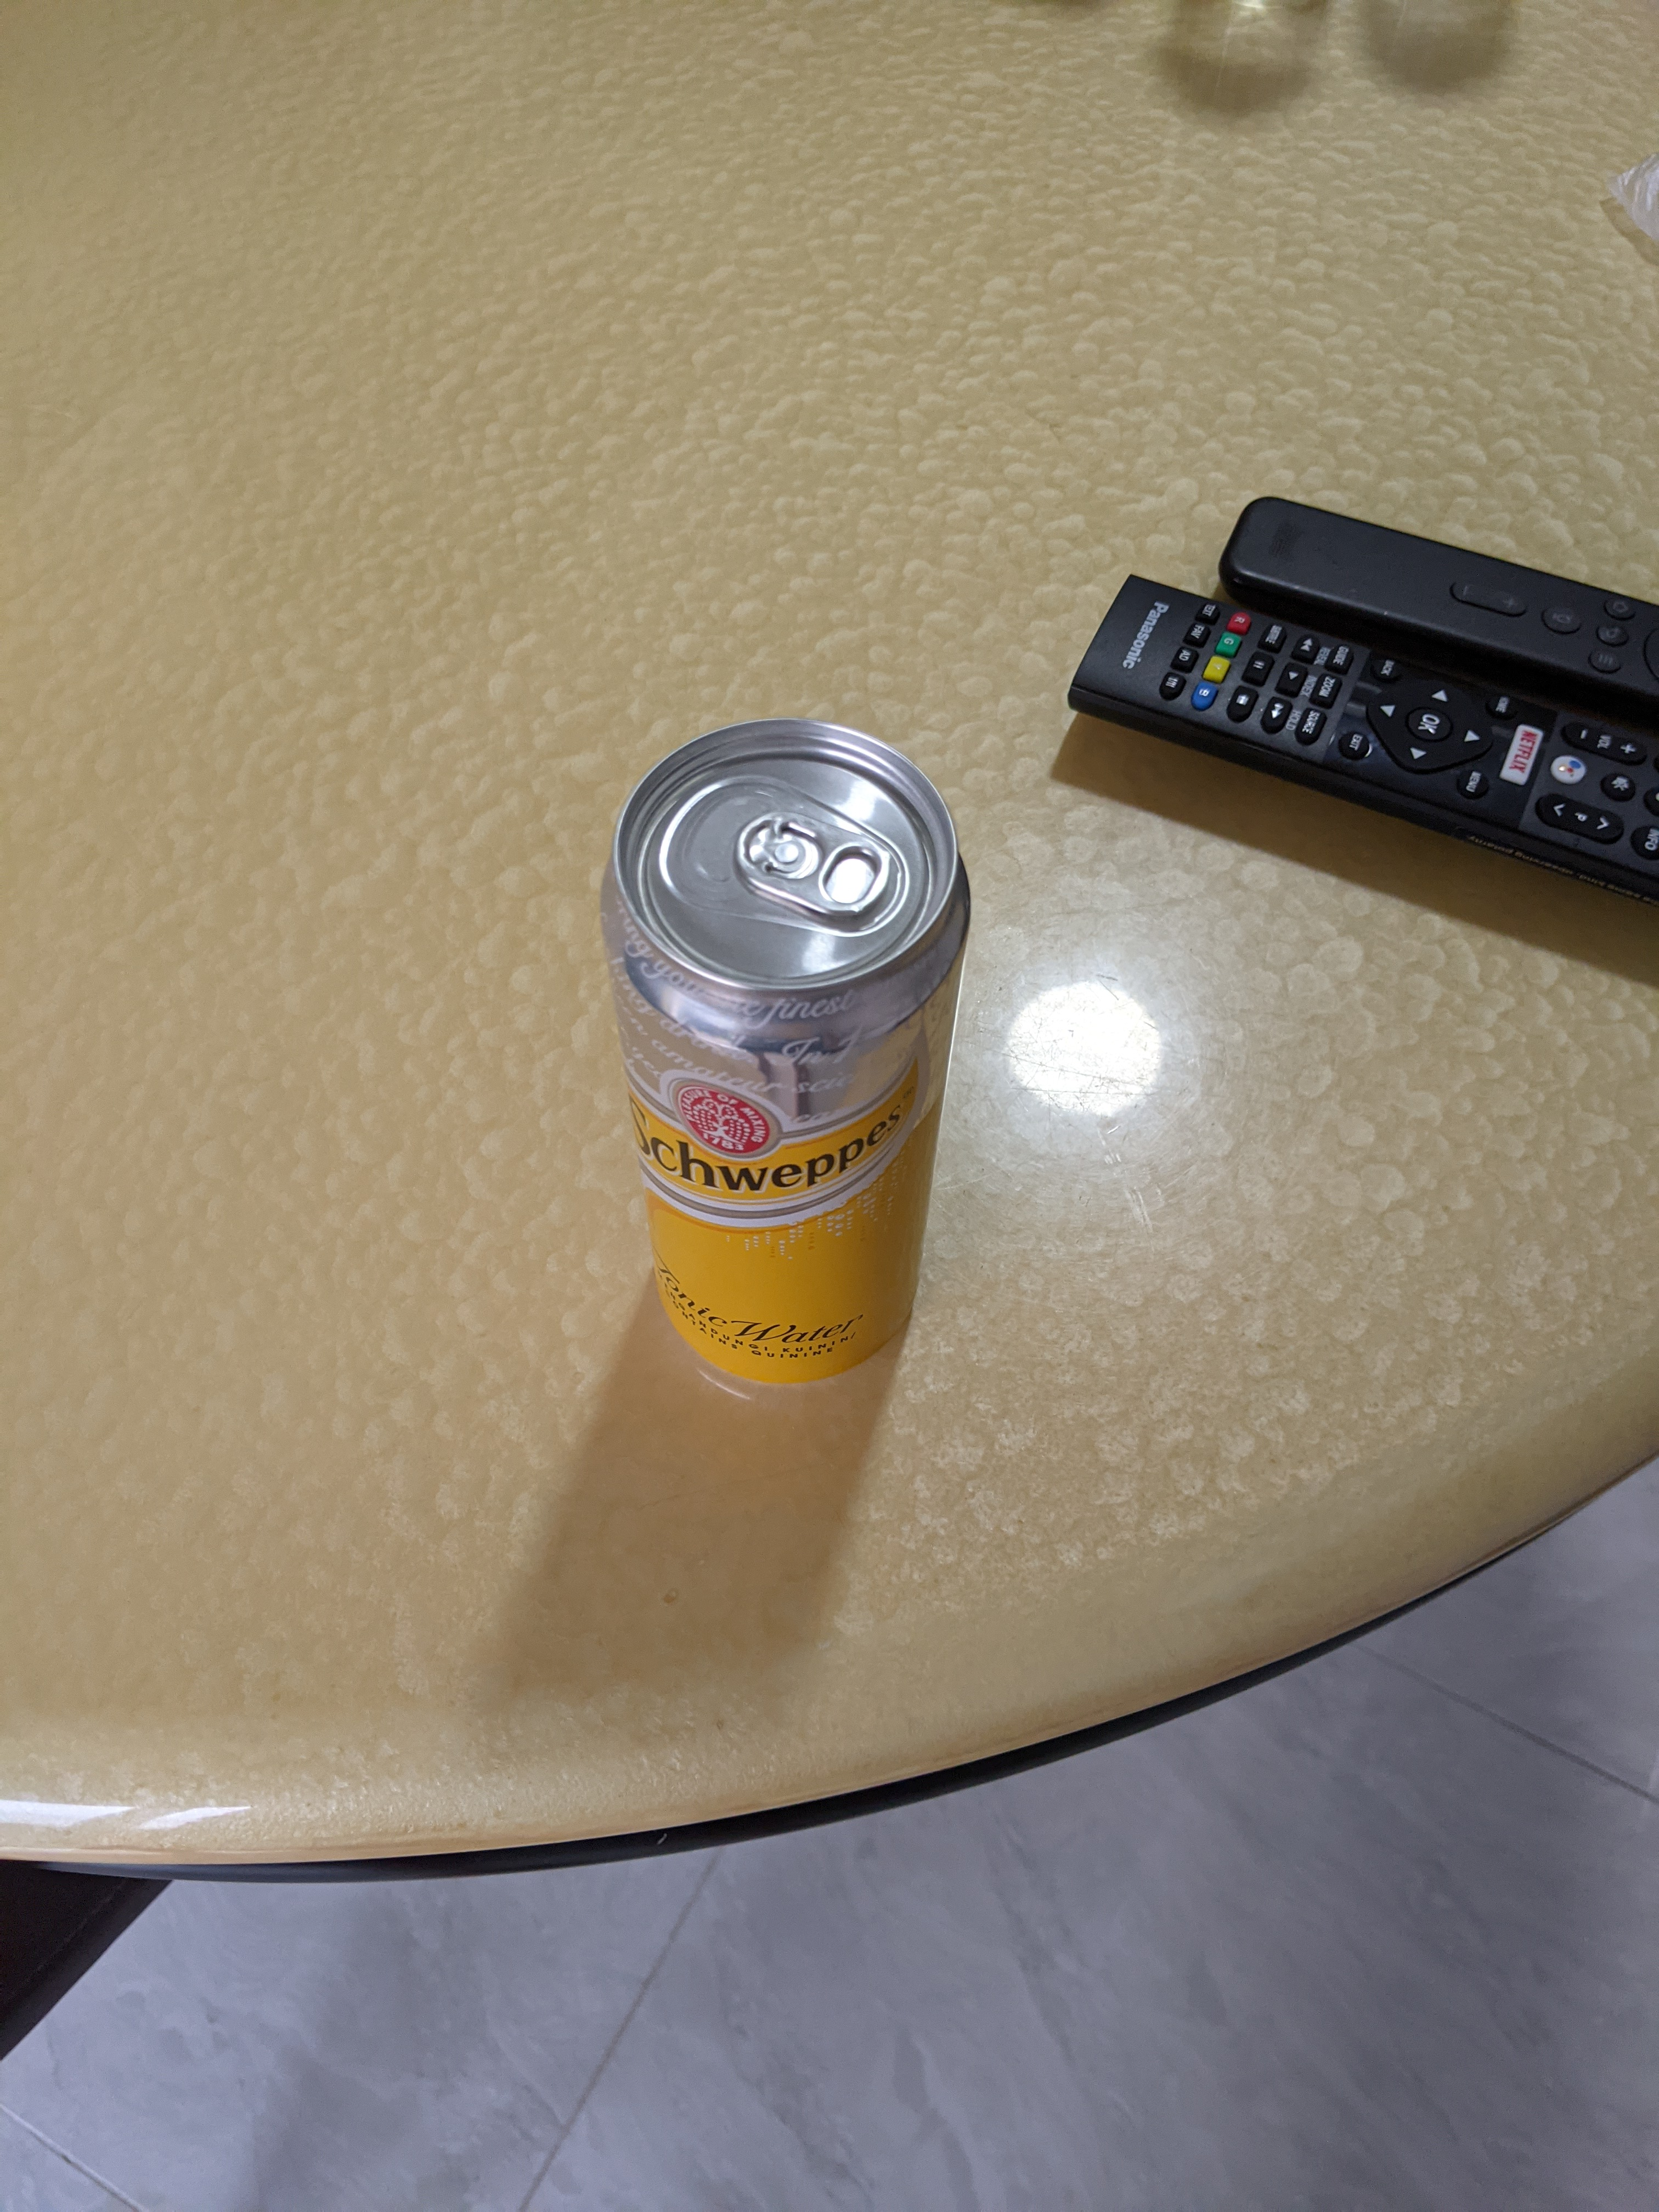schweppes drink can tonic water: (577, 695, 1004, 1428)
